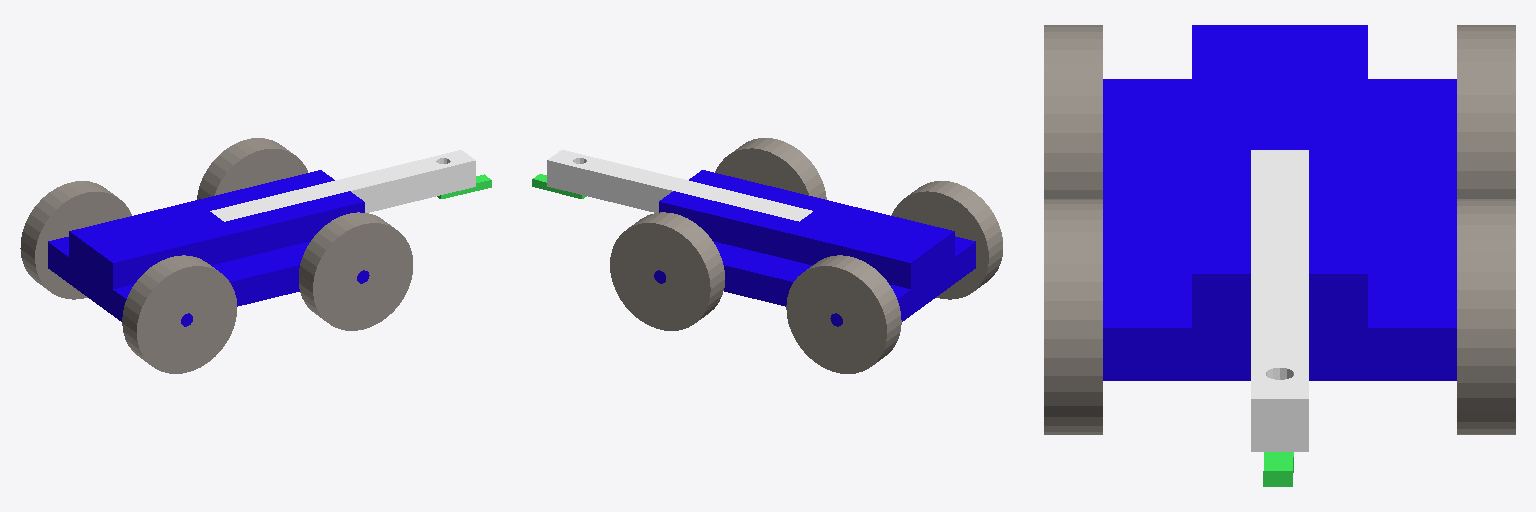
The robot description file, URDF, robot "car.SLDASM":
<?xml version="1.0" encoding="utf-8"?>
<!-- This URDF was automatically created by SolidWorks to URDF Exporter! Originally created by [author] ([email redacted]) 
     Commit Version: 1.6.0-4-g7f85cfe  Build Version: 1.6.7995.38578
     For more information, please see http://wiki.ros.org/sw_urdf_exporter -->
<robot
  name="car.SLDASM">
  <link
    name="base_link">
    <inertial>
      <origin
        xyz="-0.00145712443698064 0 -0.00708575112603873"
        rpy="0 0 0" />
      <mass
        value="0.0857853981633975" />
      <inertia
        ixx="2.36579893676635E-05"
        ixy="-7.15472346421648E-21"
        ixz="8.85718890754842E-07"
        iyy="7.40955310129763E-05"
        iyz="-5.93942845333251E-22"
        izz="9.27915237816931E-05" />
    </inertial>
    <visual>
      <origin
        xyz="0 0 0"
        rpy="0 0 0" />
      <geometry>
        <mesh
          filename="package://car.SLDASM/meshes/base_link.STL" />
      </geometry>
      <material
        name="">
        <color
          rgba="0.149019607843137 0.0274509803921569 1 1" />
      </material>
    </visual>
    <collision>
      <origin
        xyz="0 0 0"
        rpy="0 0 0" />
      <geometry>
        <mesh
          filename="package://car.SLDASM/meshes/base_link.STL" />
      </geometry>
    </collision>
  </link>
  <link
    name="wheel1_Link">
    <inertial>
      <origin
        xyz="-2.08166817117217E-17 -8.67361737988404E-19 0.005"
        rpy="0 0 0" />
      <mass
        value="0.0952491622660256" />
      <inertia
        ixx="1.04674860615268E-05"
        ixy="2.52901478853043E-22"
        ixz="-3.47657118284266E-23"
        iyy="1.04674860615268E-05"
        iyz="-1.46493686483141E-22"
        izz="1.93474860852865E-05" />
    </inertial>
    <visual>
      <origin
        xyz="0 0 0"
        rpy="0 0 0" />
      <geometry>
        <mesh
          filename="package://car.SLDASM/meshes/wheel1_Link.STL" />
      </geometry>
      <material
        name="">
        <color
          rgba="0.647058823529412 0.619607843137255 0.588235294117647 1" />
      </material>
    </visual>
    <collision>
      <origin
        xyz="0 0 0"
        rpy="0 0 0" />
      <geometry>
        <mesh
          filename="package://car.SLDASM/meshes/wheel1_Link.STL" />
      </geometry>
    </collision>
  </link>
  <joint
    name="wheel1_Joint"
    type="continuous">
    <origin
      xyz="-0.035 -0.04 -0.01"
      rpy="1.5707963267949 0 3.14159265358979" />
    <parent
      link="base_link" />
    <child
      link="wheel1_Link" />
    <axis
      xyz="0 0 1" />
  </joint>
  <link
    name="wheel2_Link">
    <inertial>
      <origin
        xyz="-1.38777878078145E-17 -8.67361737988404E-19 -0.00499999999999999"
        rpy="0 0 0" />
      <mass
        value="0.0952491622660256" />
      <inertia
        ixx="1.04674860615268E-05"
        ixy="-1.05446075085096E-21"
        ixz="-3.39695504888443E-23"
        iyy="1.04674860615268E-05"
        iyz="1.35878201955377E-22"
        izz="1.93474860852864E-05" />
    </inertial>
    <visual>
      <origin
        xyz="0 0 0"
        rpy="0 0 0" />
      <geometry>
        <mesh
          filename="package://car.SLDASM/meshes/wheel2_Link.STL" />
      </geometry>
      <material
        name="">
        <color
          rgba="0.647058823529412 0.619607843137255 0.588235294117647 1" />
      </material>
    </visual>
    <collision>
      <origin
        xyz="0 0 0"
        rpy="0 0 0" />
      <geometry>
        <mesh
          filename="package://car.SLDASM/meshes/wheel2_Link.STL" />
      </geometry>
    </collision>
  </link>
  <joint
    name="wheel2_Joint"
    type="continuous">
    <origin
      xyz="-0.035 0.04 -0.01"
      rpy="1.5707963267949 0 3.14159265358979" />
    <parent
      link="base_link" />
    <child
      link="wheel2_Link" />
    <axis
      xyz="0 0 -1" />
  </joint>
  <link
    name="wheel3_Link">
    <inertial>
      <origin
        xyz="0 -1.73472347597681E-18 0.005"
        rpy="0 0 0" />
      <mass
        value="0.0952491622660256" />
      <inertia
        ixx="1.04674860615268E-05"
        ixy="1.86465547071181E-22"
        ixz="-8.84011087309251E-23"
        iyy="1.04674860615268E-05"
        iyz="1.66393442584973E-22"
        izz="1.93474860852865E-05" />
    </inertial>
    <visual>
      <origin
        xyz="0 0 0"
        rpy="0 0 0" />
      <geometry>
        <mesh
          filename="package://car.SLDASM/meshes/wheel3_Link.STL" />
      </geometry>
      <material
        name="">
        <color
          rgba="0.647058823529412 0.619607843137255 0.588235294117647 1" />
      </material>
    </visual>
    <collision>
      <origin
        xyz="0 0 0"
        rpy="0 0 0" />
      <geometry>
        <mesh
          filename="package://car.SLDASM/meshes/wheel3_Link.STL" />
      </geometry>
    </collision>
  </link>
  <joint
    name="wheel3_Joint"
    type="continuous">
    <origin
      xyz="0.035 -0.04 -0.01"
      rpy="1.5707963267949 0 3.14159265358979" />
    <parent
      link="base_link" />
    <child
      link="wheel3_Link" />
    <axis
      xyz="0 0 -1" />
  </joint>
  <link
    name="wheel4_Link">
    <inertial>
      <origin
        xyz="6.93889390390723E-18 1.95156391047391E-18 -0.00499999999999999"
        rpy="0 0 0" />
      <mass
        value="0.0952491622660256" />
      <inertia
        ixx="1.04674860615268E-05"
        ixy="-3.14053511744475E-22"
        ixz="-1.33755105049824E-22"
        iyy="1.04674860615268E-05"
        iyz="-1.42247492672036E-22"
        izz="1.93474860852864E-05" />
    </inertial>
    <visual>
      <origin
        xyz="0 0 0"
        rpy="0 0 0" />
      <geometry>
        <mesh
          filename="package://car.SLDASM/meshes/wheel4_Link.STL" />
      </geometry>
      <material
        name="">
        <color
          rgba="0.647058823529412 0.619607843137255 0.588235294117647 1" />
      </material>
    </visual>
    <collision>
      <origin
        xyz="0 0 0"
        rpy="0 0 0" />
      <geometry>
        <mesh
          filename="package://car.SLDASM/meshes/wheel4_Link.STL" />
      </geometry>
    </collision>
  </link>
  <joint
    name="wheel4_Joint"
    type="continuous">
    <origin
      xyz="0.035 0.04 -0.01"
      rpy="1.5707963267949 0 3.14159265358979" />
    <parent
      link="base_link" />
    <child
      link="wheel4_Link" />
    <axis
      xyz="0 0 -1" />
  </joint>
  <link
    name="arm_Link">
    <inertial>
      <origin
        xyz="-1.38777878078145E-17 3.46944695195361E-18 0.0491988717196008"
        rpy="0 0 0" />
      <mass
        value="0.00980365045915065" />
      <inertia
        ixx="8.09427231217566E-06"
        ixy="4.85976683157683E-24"
        ixz="-2.00675950214194E-22"
        iyy="8.09560176219183E-06"
        iyz="3.42667723726349E-22"
        izz="1.64723624335346E-07" />
    </inertial>
    <visual>
      <origin
        xyz="0 0 0"
        rpy="0 0 0" />
      <geometry>
        <mesh
          filename="package://car.SLDASM/meshes/arm_Link.STL" />
      </geometry>
      <material
        name="">
        <color
          rgba="1 1 1 1" />
      </material>
    </visual>
    <collision>
      <origin
        xyz="0 0 0"
        rpy="0 0 0" />
      <geometry>
        <mesh
          filename="package://car.SLDASM/meshes/arm_Link.STL" />
      </geometry>
    </collision>
  </link>
  <joint
    name="arm_Joint"
    type="prismatic">
    <origin
      xyz="0 0 0"
      rpy="1.5708 0 1.5708" />
    <parent
      link="base_link" />
    <child
      link="arm_Link" />
    <axis
      xyz="0 0 -1" />
    <limit
      lower="-0.03"
      upper="0"
      effort="20"
      velocity="1" />
  </joint>
  <link
    name="gripper_Link">
    <inertial>
      <origin
        xyz="0.00564993551269037 9.79757537439979E-05 0.00551375197308479"
        rpy="0 0 0" />
      <mass
        value="0.000398174770424681" />
      <inertia
        ixx="2.3954956119512E-09"
        ixy="-2.34653129896164E-10"
        ixz="-2.21872448749053E-09"
        iyy="1.59230912172066E-08"
        iyz="-3.84749885240135E-11"
        izz="1.50925300211253E-08" />
    </inertial>
    <visual>
      <origin
        xyz="0 0 0"
        rpy="0 0 0" />
      <geometry>
        <mesh
          filename="package://car.SLDASM/meshes/gripper_Link.STL" />
      </geometry>
      <material
        name="">
        <color
          rgba="0.27843137254902 1 0.392156862745098 1" />
      </material>
    </visual>
    <collision>
      <origin
        xyz="0 0 0"
        rpy="0 0 0" />
      <geometry>
        <mesh
          filename="package://car.SLDASM/meshes/gripper_Link.STL" />
      </geometry>
    </collision>
  </link>
  <joint
    name="gripper_Joint"
    type="revolute">
    <origin
      xyz="0 0 0.09"
      rpy="1.5707963267949 -1.5707963267949 0" />
    <parent
      link="arm_Link" />
    <child
      link="gripper_Link" />
    <axis
      xyz="0 0 -1" />
    <limit
      lower="-1.2"
      upper="1.2"
      effort="20"
      velocity="0.1" />
  </joint>
</robot>

--- What the picture shows (computed from the rendered views, not written in the file) ---
The picture shows the robot from 3 angles, left to right: view 1: azimuth 30°, elevation 25°; view 2: azimuth 150°, elevation 25°; view 3: azimuth 270°, elevation 25°; orthographic projection.
Robot: car.SLDASM — 7 links, 6 joints (1 revolute, 4 continuous, 1 prismatic); root link base_link; default pose: all joints at 0.
Visible links, largest first — view 1: base_link, wheel1_Link, wheel3_Link, arm_Link, wheel2_Link, wheel4_Link; view 2: base_link, wheel4_Link, wheel2_Link, arm_Link, wheel1_Link, wheel3_Link; view 3: base_link, arm_Link, wheel3_Link, wheel4_Link, wheel1_Link, wheel2_Link, gripper_Link.
Boxes of the visible links, box(x1,y1,x2,y2) form: base_link: box(48, 170, 369, 326); wheel1_Link: box(122, 255, 236, 373); wheel3_Link: box(299, 212, 412, 330); arm_Link: box(210, 150, 475, 221); wheel2_Link: box(20, 181, 131, 299); wheel4_Link: box(197, 138, 307, 199); base_link: box(654, 170, 975, 326); wheel4_Link: box(610, 212, 724, 330); wheel2_Link: box(786, 255, 901, 373); arm_Link: box(547, 150, 812, 221); wheel1_Link: box(891, 181, 1002, 299); wheel3_Link: box(715, 138, 826, 199); base_link: box(1103, 25, 1456, 380); arm_Link: box(1251, 150, 1308, 451); wheel3_Link: box(1044, 199, 1102, 434); wheel4_Link: box(1457, 199, 1515, 434); wheel1_Link: box(1044, 25, 1102, 198); wheel2_Link: box(1457, 25, 1515, 198); gripper_Link: box(1263, 452, 1293, 486).
Bounding box of the posed robot: 0.1625 × 0.08 × 0.04 m (x, y, z).
Meshes: 7 distinct files referenced, 7 mesh visuals loaded (7 binary STL).